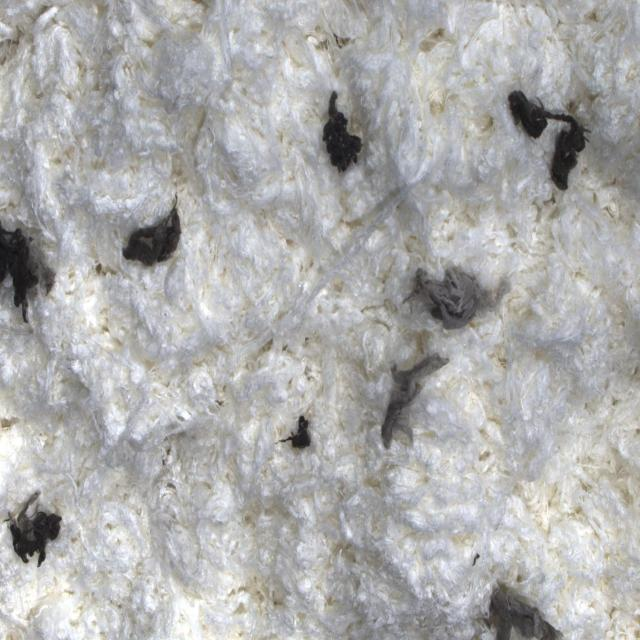dust: (503, 83, 592, 191), (402, 258, 511, 331), (380, 352, 450, 462), (0, 212, 62, 332), (0, 484, 66, 577), (482, 569, 564, 640), (121, 195, 185, 276), (317, 86, 365, 184), (272, 407, 314, 457)
